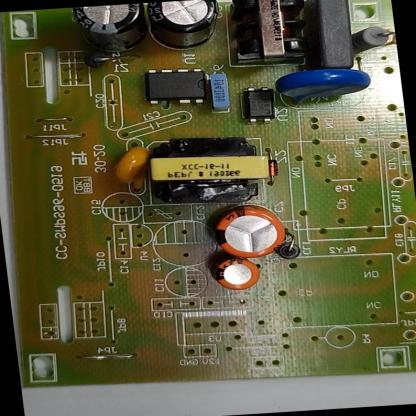Cap1: (188, 195, 294, 260)
Cap2: (203, 252, 267, 298)
Cap3: (143, 0, 233, 58)
Cap4: (69, 4, 153, 61)
MOSFET: (136, 65, 220, 110), (383, 56, 385, 57)
Mov: (269, 62, 382, 111)
Resistor: (344, 21, 398, 60)
Transformer: (142, 130, 290, 212), (216, 0, 322, 71)
